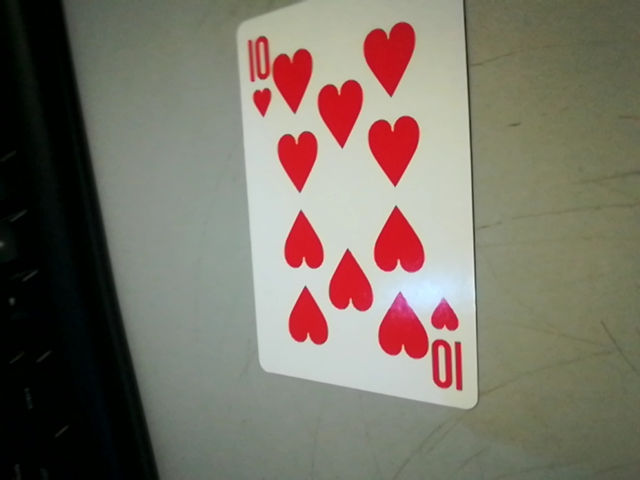hx 10: (429, 296, 478, 398)
